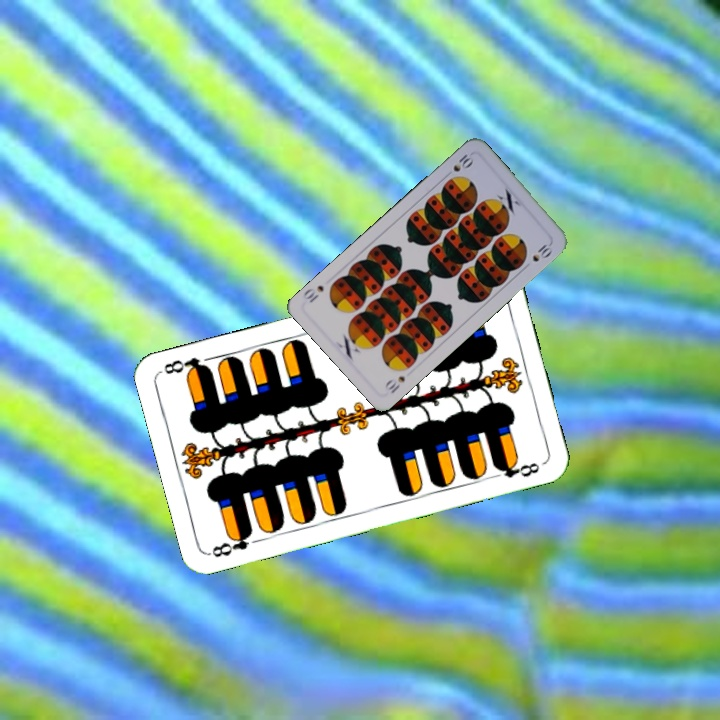E8: (206, 526, 256, 560)
S10: (441, 150, 476, 180), (380, 372, 408, 396)
